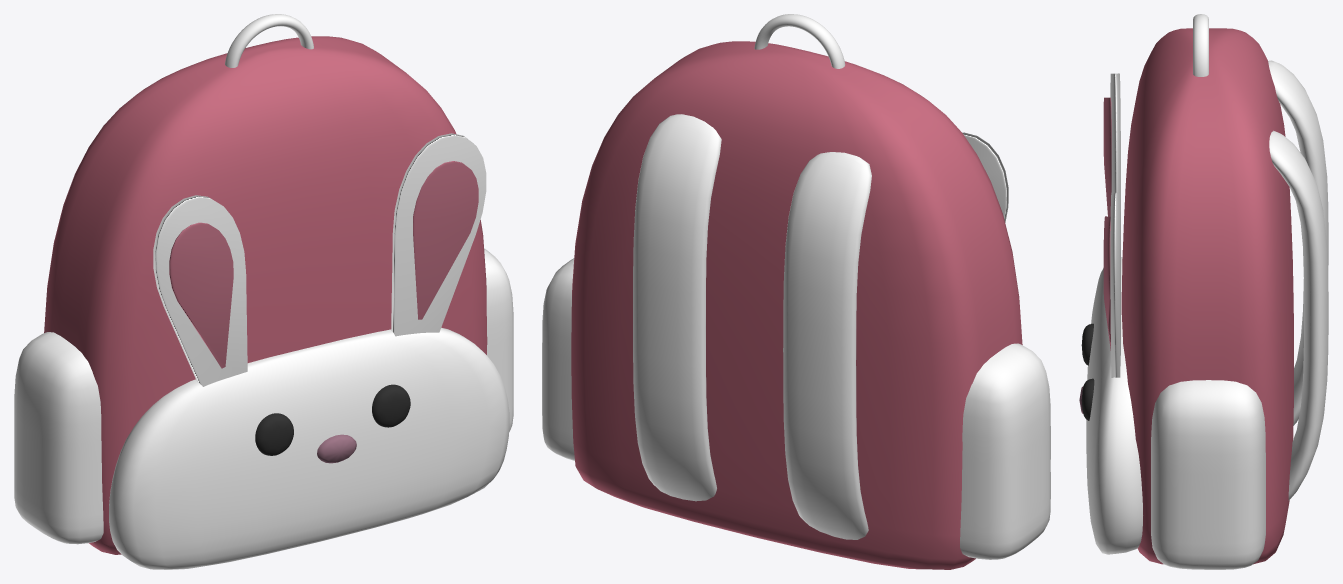
Rendered from bag2.glb.
3 renders of one model, left to right at view 1: azimuth 30°, elevation 25°; view 2: azimuth 150°, elevation 25°; view 3: azimuth 270°, elevation 25°, orthographic. The views are drawn at different scales.
Visible parts, largest first — view 1: Kubus_0, Kubus.001_1, Kubus.007_7, Kubus.006_3, Kubus.008_4, Lingkaran_2, NurbsPath_6, Lingkaran.001_5; view 2: Kubus_0, Kubus.005_101, Kubus.016_102, Kubus.007_7, NurbsPath_6, Kubus.006_3; view 3: Kubus_0, Kubus.007_7, Kubus.001_1, Kubus.016_102, Kubus.005_101, Kubus.006_3, Kubus.008_4, NurbsPath_6, Lingkaran_2.
Boxes of the visible parts, <box> form: Kubus_0: <box>44,36,487,554</box>; Kubus.001_1: <box>109,327,509,569</box>; Kubus.007_7: <box>14,248,513,544</box>; Kubus.006_3: <box>153,133,486,386</box>; Kubus.008_4: <box>169,161,478,368</box>; Lingkaran_2: <box>255,384,410,455</box>; NurbsPath_6: <box>225,14,313,67</box>; Lingkaran.001_5: <box>317,434,356,463</box>; Kubus_0: <box>571,41,1022,569</box>; Kubus.005_101: <box>783,152,871,539</box>; Kubus.016_102: <box>633,114,721,501</box>; Kubus.007_7: <box>542,258,1050,559</box>; NurbsPath_6: <box>754,14,845,68</box>; Kubus.006_3: <box>962,132,1008,222</box>; Kubus_0: <box>1121,28,1293,564</box>; Kubus.007_7: <box>1151,380,1265,569</box>; Kubus.001_1: <box>1086,257,1142,554</box>; Kubus.016_102: <box>1269,130,1328,500</box>; Kubus.005_101: <box>1268,60,1328,425</box>; Kubus.006_3: <box>1110,73,1120,377</box>; Kubus.008_4: <box>1103,97,1111,350</box>; NurbsPath_6: <box>1193,14,1208,76</box>; Lingkaran_2: <box>1081,323,1094,420</box>.
Size of the model in its own units: 2.61 by 2.6 by 1.25.
